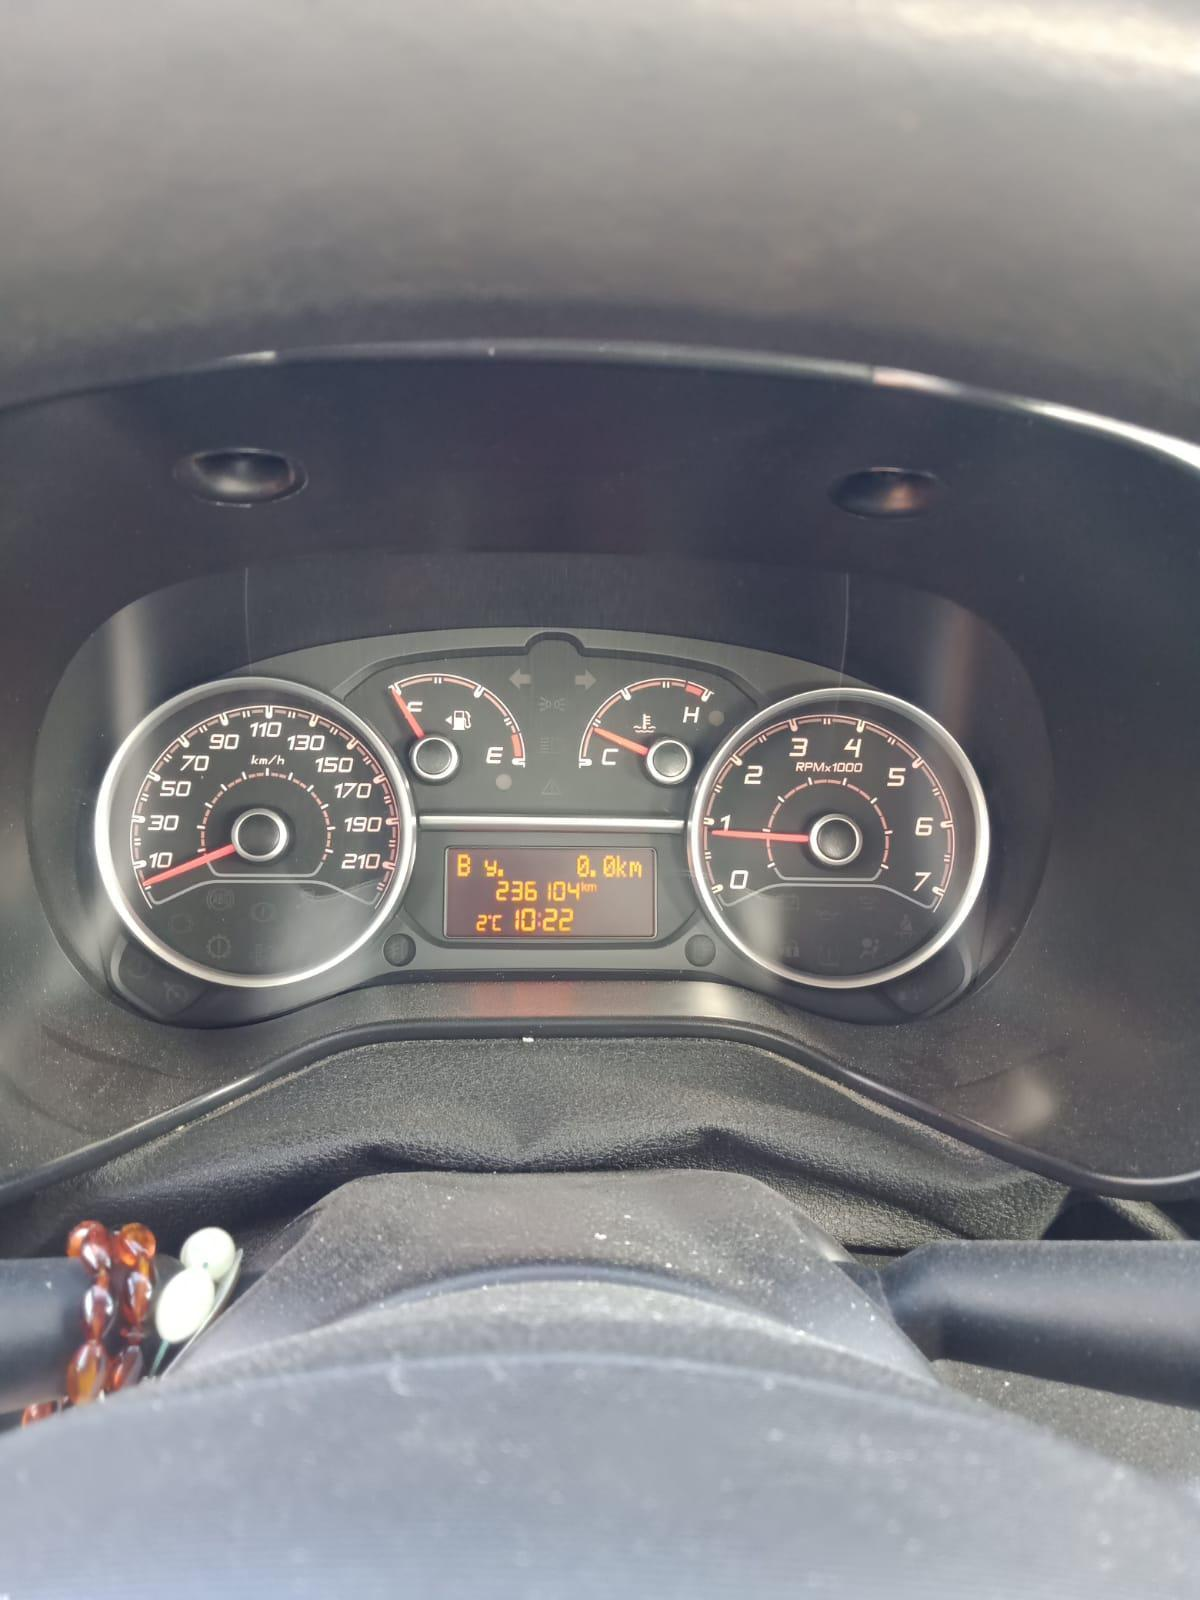,: (495, 869, 503, 877), (589, 869, 595, 877)
0: (521, 907, 536, 932), (575, 854, 590, 877), (552, 879, 566, 902), (603, 854, 616, 877)
1: (513, 908, 519, 930), (546, 881, 552, 901)
2: (557, 907, 574, 932), (542, 907, 557, 932), (495, 879, 509, 901), (475, 913, 487, 932)
3: (511, 879, 523, 901)
4: (566, 879, 580, 901)
6: (523, 879, 537, 901)
X: (456, 853, 471, 878), (615, 854, 628, 878), (483, 858, 497, 878), (628, 860, 642, 878), (492, 913, 502, 932), (587, 883, 597, 892), (536, 911, 541, 929), (580, 881, 587, 892)
odometer: (441, 843, 659, 942)
